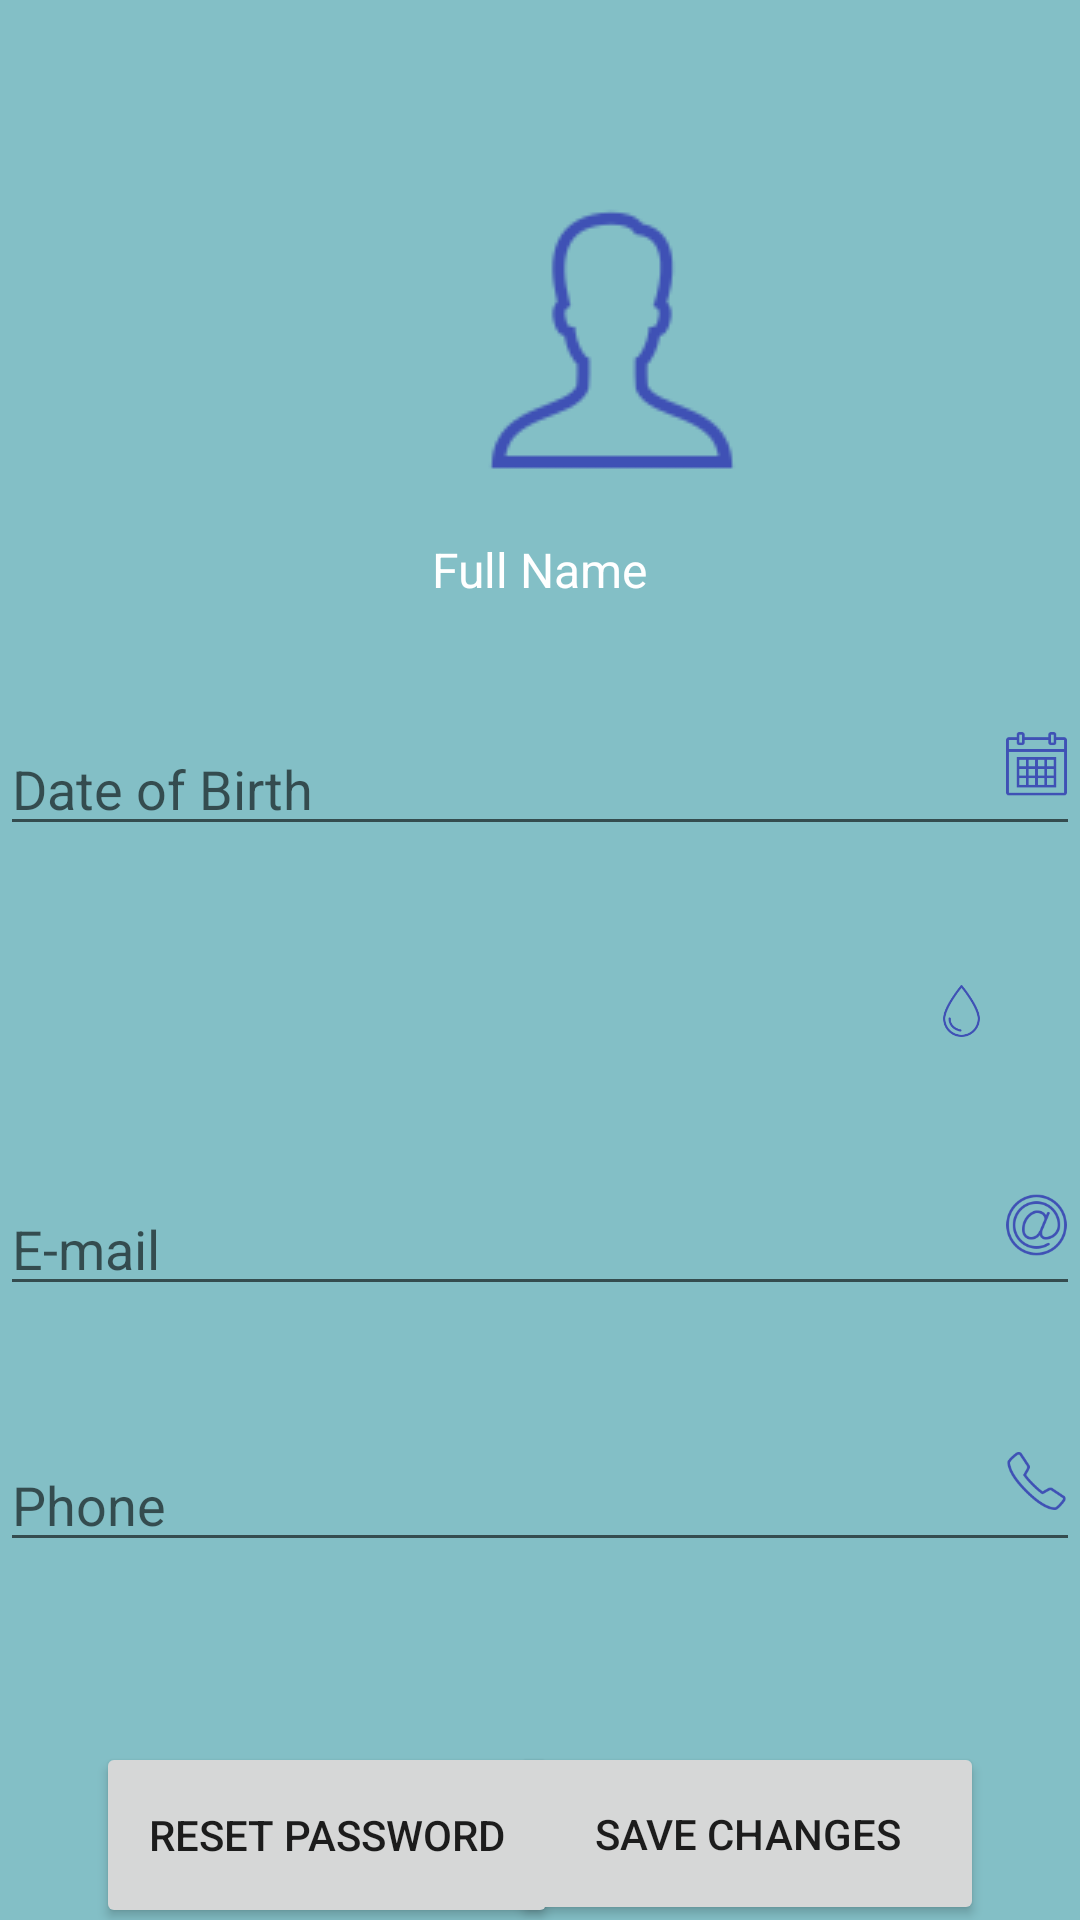

Icon click points for this 1080px x 1920px phone screenshot, format (x,y):
blood type: (961,1011)
calendar: (1036,764)
profile: (612,340)
